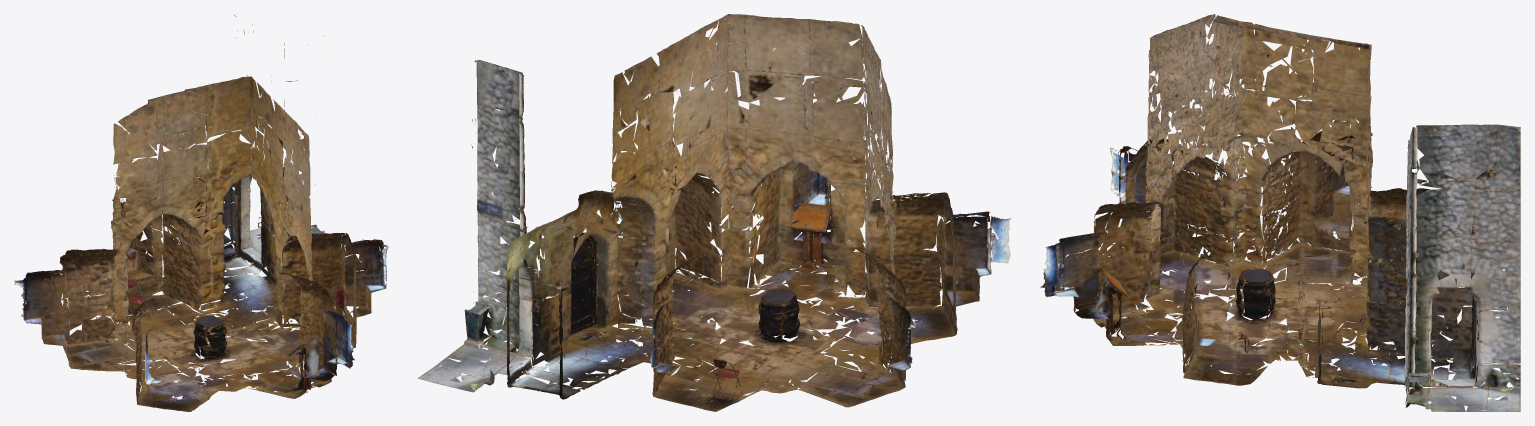
Rendered from salt_tower_lowpoly.glb.
3 views of the same model, side by side, from view 1: azimuth 30°, elevation 25°; view 2: azimuth 150°, elevation 25°; view 3: azimuth 270°, elevation 25° (orthographic). The views are drawn at different scales.
Visible parts, largest first — view 1: Object_6, Object_8, Object_7, Object_9, Object_10, Object_13, Object_12, Object_11, Object_5, Object_4, Object_14; view 2: Object_7, Object_10, Object_11, Object_4, Object_9, Object_14, Object_5, Object_8, Object_12, Object_6, Object_13; view 3: Object_4, Object_8, Object_10, Object_11, Object_14, Object_12, Object_5, Object_9, Object_13, Object_6, Object_7.
Boxes of the visible parts, <box> form: Object_6: <box>112,143,379,345</box>; Object_8: <box>14,75,260,411</box>; Object_7: <box>113,82,319,323</box>; Object_9: <box>63,93,303,392</box>; Object_10: <box>114,131,310,368</box>; Object_13: <box>59,152,356,348</box>; Object_12: <box>114,128,314,388</box>; Object_11: <box>112,118,317,389</box>; Object_5: <box>218,80,386,394</box>; Object_4: <box>111,15,388,398</box>; Object_14: <box>84,146,225,410</box>; Object_7: <box>516,56,867,390</box>; Object_10: <box>434,14,952,402</box>; Object_11: <box>487,14,877,380</box>; Object_4: <box>417,60,1011,399</box>; Object_9: <box>612,19,936,407</box>; Object_14: <box>793,25,1001,365</box>; Object_5: <box>478,96,847,295</box>; Object_8: <box>612,71,1002,389</box>; Object_12: <box>468,80,874,389</box>; Object_6: <box>623,166,775,390</box>; Object_13: <box>569,179,900,411</box>; Object_4: <box>1058,115,1520,411</box>; Object_8: <box>1114,37,1371,295</box>; Object_10: <box>1148,38,1518,411</box>; Object_11: <box>1147,24,1435,404</box>; Object_14: <box>1115,14,1360,299</box>; Object_12: <box>1140,38,1458,404</box>; Object_5: <box>1040,154,1465,363</box>; Object_9: <box>1171,15,1363,363</box>; Object_13: <box>1182,123,1459,385</box>; Object_6: <box>1182,105,1430,364</box>; Object_7: <box>1139,43,1476,363</box>.
Size of the model in its own units: 9.53 by 6.28 by 10.11.
1 material, 1 textured.
